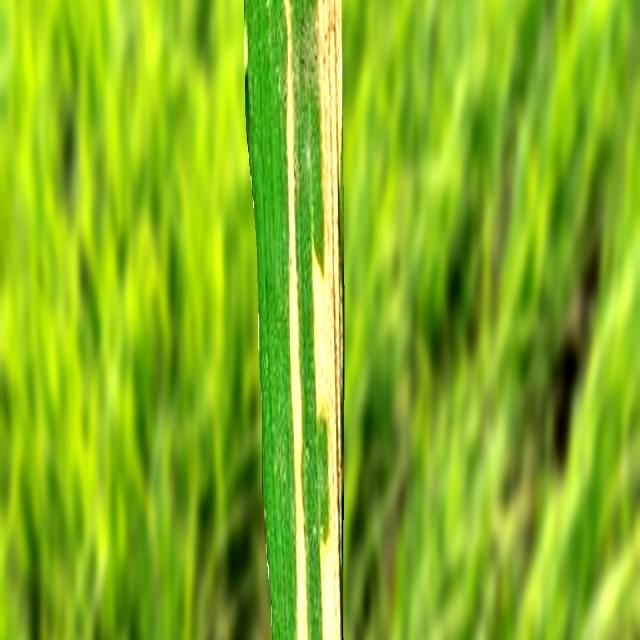BLB: (311, 0, 343, 640), (282, 0, 309, 640)
